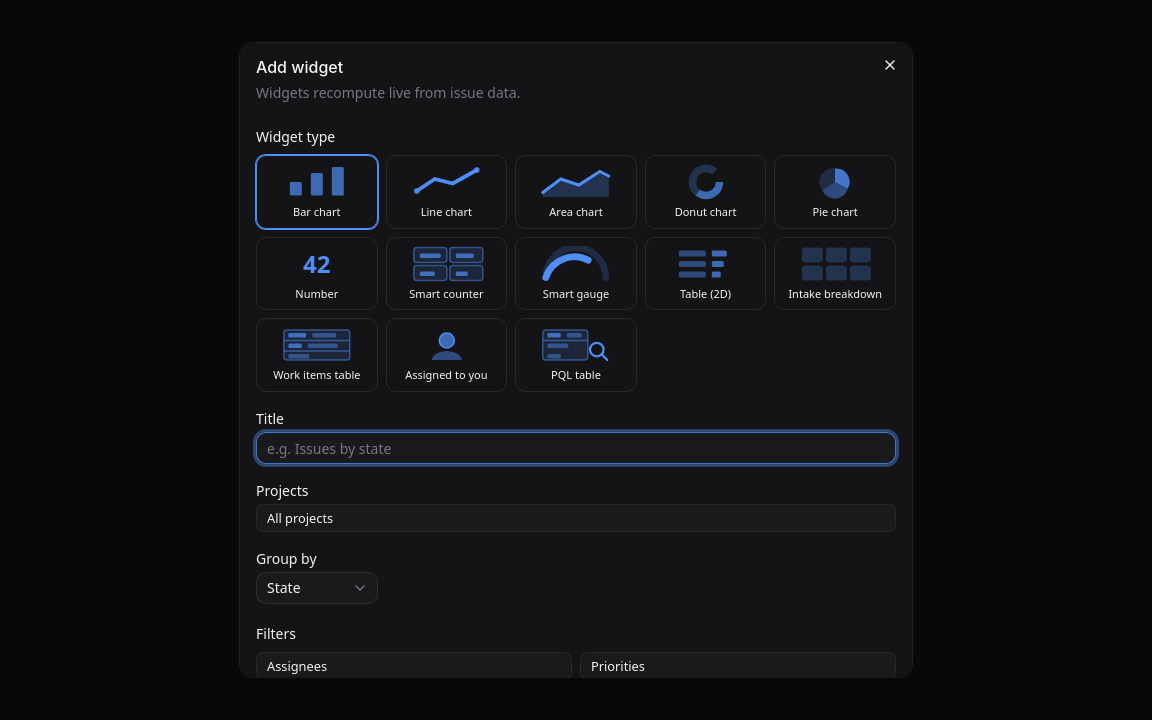
Test: WidgetDialog PQL panel (C100T1) › shows the multi-project picker, PQL editor, and row-list controls for pql_table
This screenshot has width=1152, height=720.
Click the radio button labelled "PQL table". click: (576, 355)
box: x1=515 y1=319 x2=637 y2=392
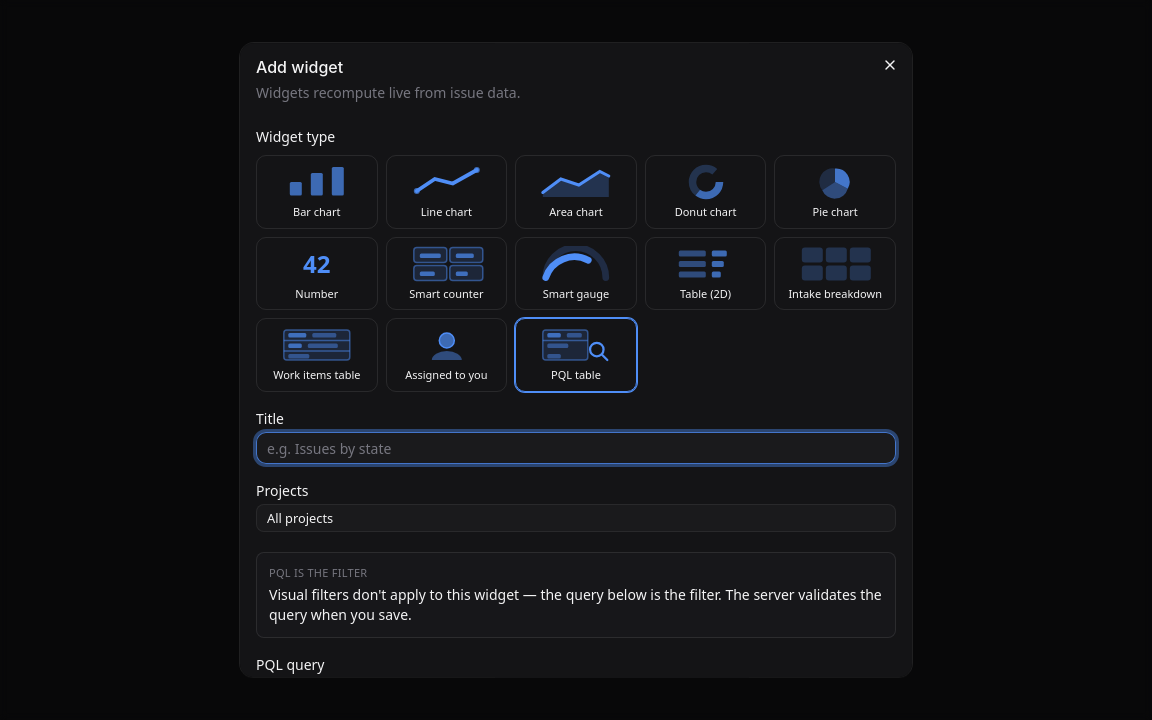
Click the button "All projects". click: (300, 518)
box: x1=256 y1=504 x2=896 y2=532
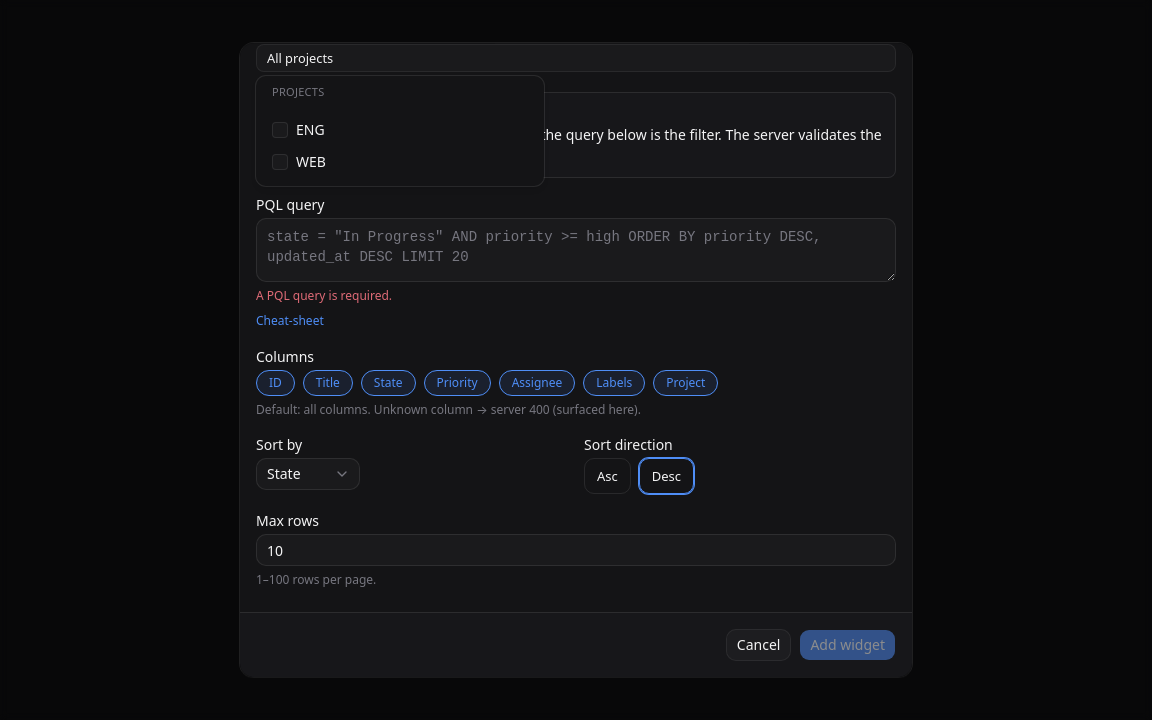
Now the button "ID" is shown, box x1=256 y1=370 x2=295 y2=396
Now the checkbox named "ENG" next to "ENG" is shown, box x1=272 y1=122 x2=288 y2=138
Now the text box labelled "PQL query" is shown, box x1=256 y1=218 x2=896 y2=282
